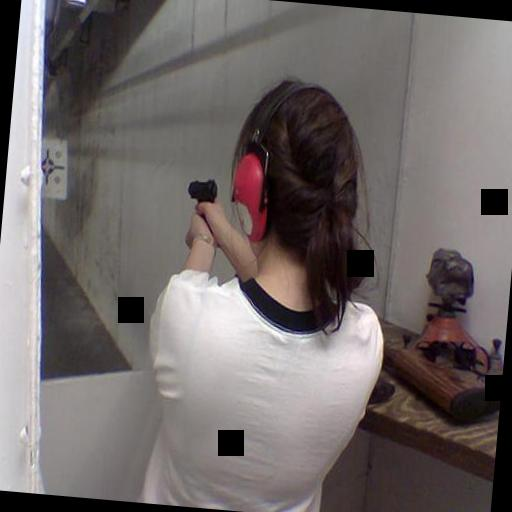Handgun: (182, 174, 218, 224)
